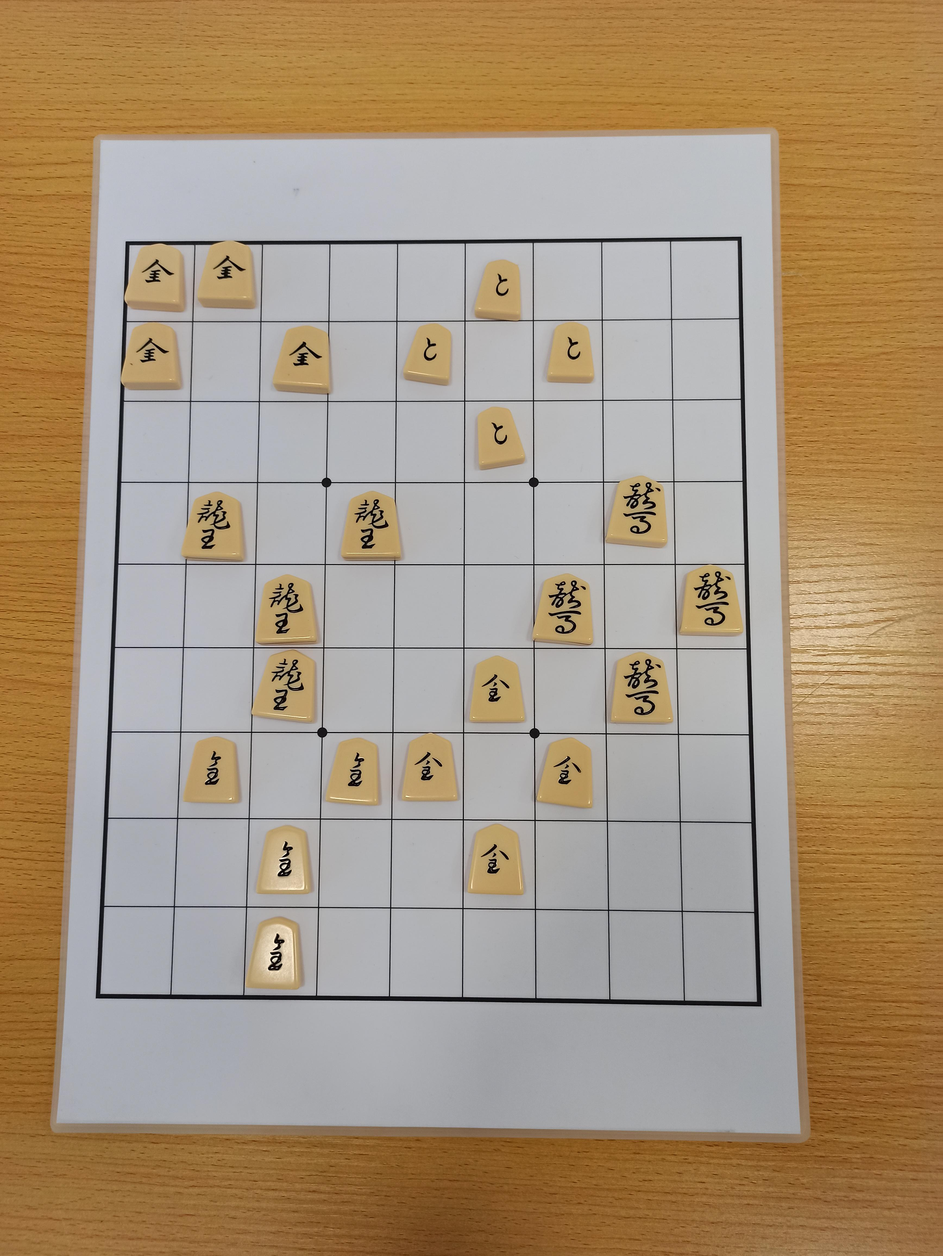board: (98, 239, 759, 1004)
